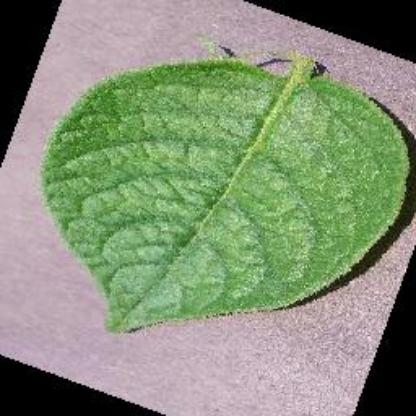Healthy-plant: (40, 16, 412, 392)
